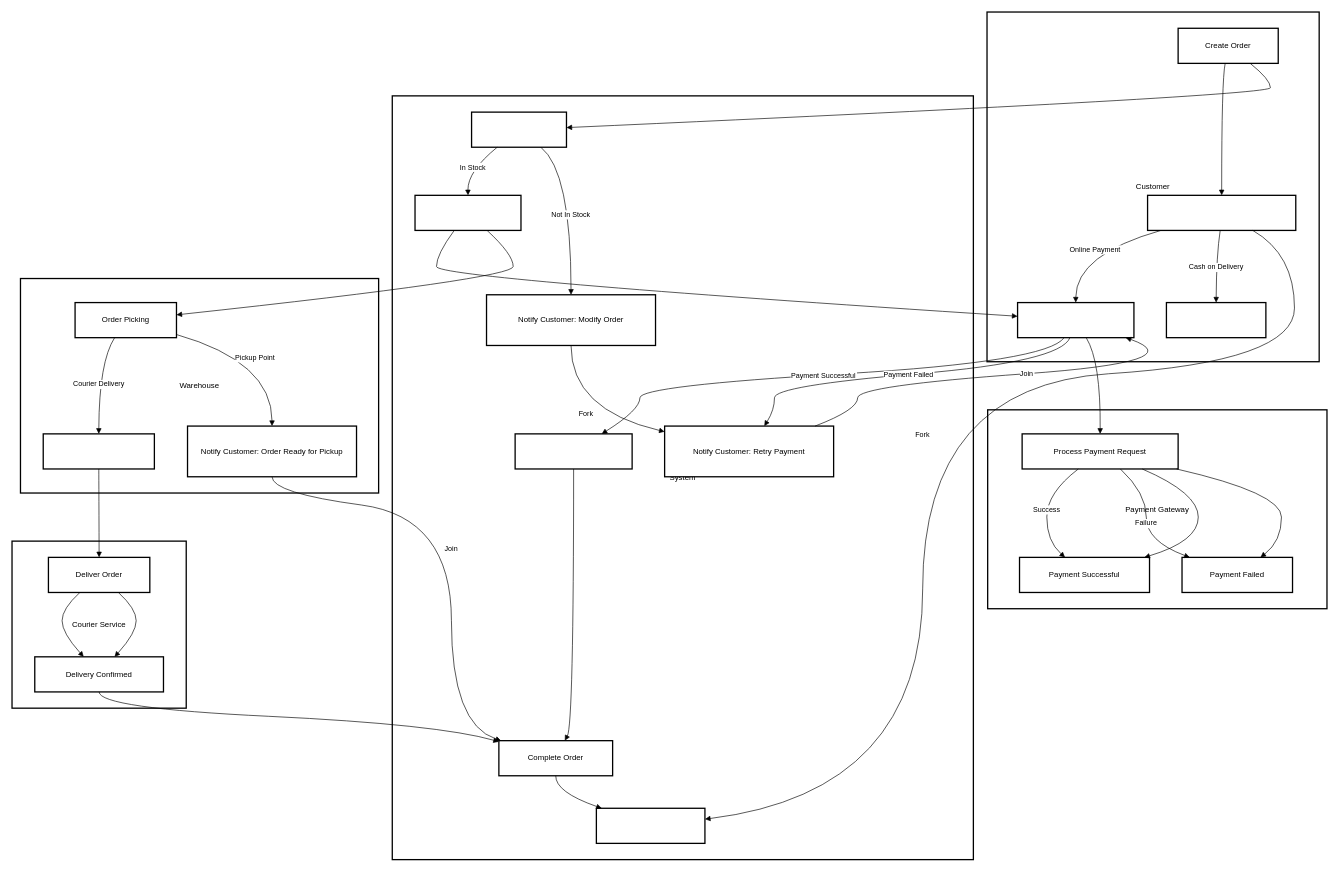
This 1338x871 diagram has some shape labels left out. Each missing label, with the centre of its shape:
Check Stock: point 519,129
Confirm Order: point 467,212
Order Confirmed: point 573,451
Order Placed: point 1215,320
Process Payment: point 1075,320
Select Payment Method: point 1221,212
Send E-Receipt: point 650,825
Send to Courier: point 98,451
